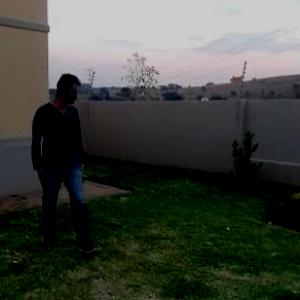follow: (33, 65, 99, 261)
